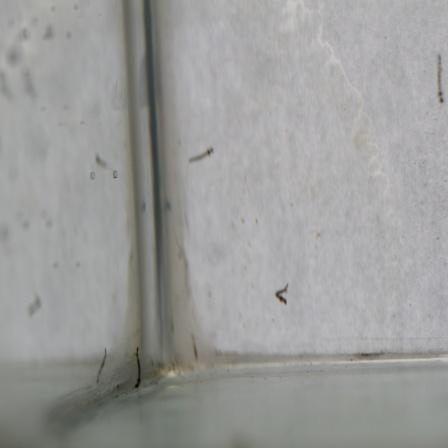Jentik-Nyamuk: (129, 348, 147, 393), (272, 280, 293, 307)
